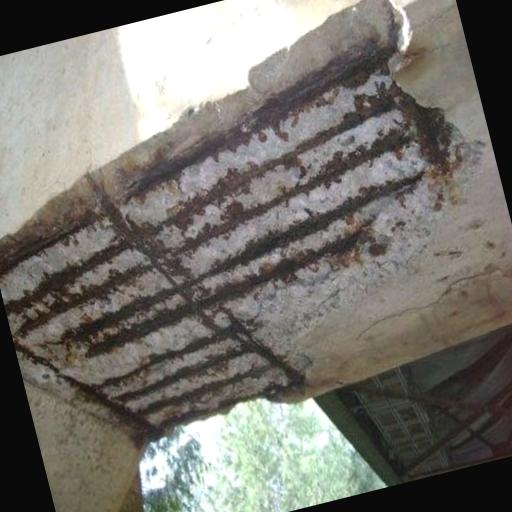spalling: (0, 0, 468, 441)
